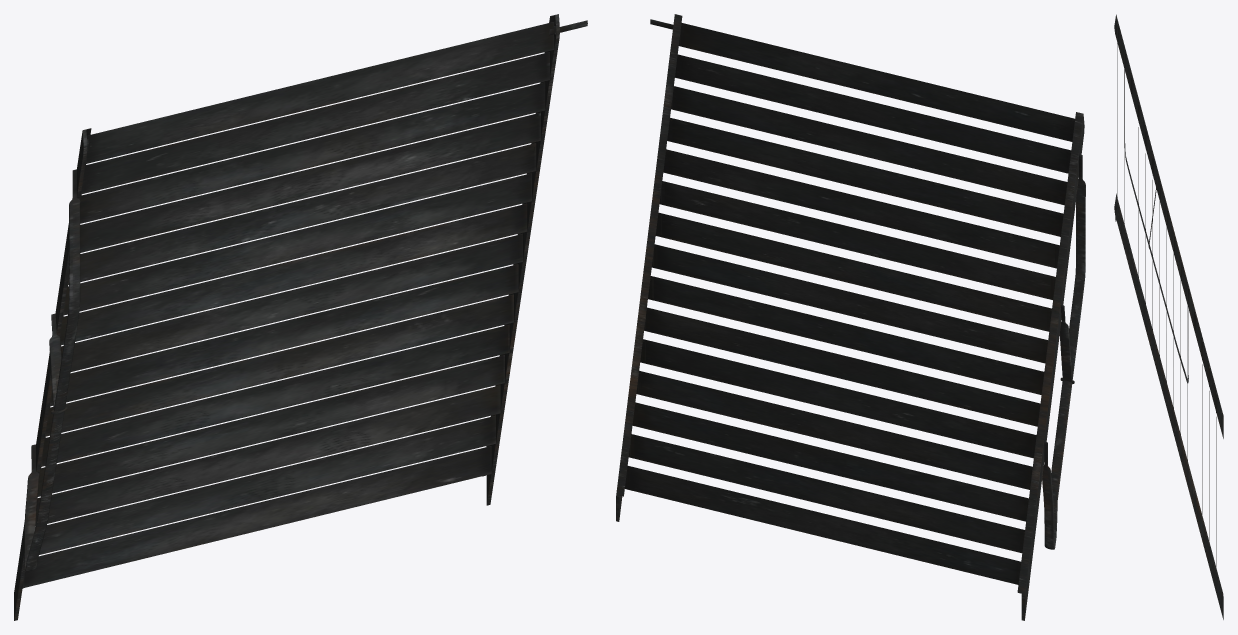
Rendered from steel_stairs.obj.
3 views of the same model, side by side, from view 1: azimuth 30°, elevation 25°; view 2: azimuth 150°, elevation 25°; view 3: azimuth 270°, elevation 25° (orthographic). The views are drawn at different scales.
Visible parts, largest first — view 1: modular_fire_escape_stairs; view 2: modular_fire_escape_stairs; view 3: modular_fire_escape_stairs.
Boxes of the visible parts, x1,y1,x2,y2 form: modular_fire_escape_stairs: [14, 14, 587, 620]; modular_fire_escape_stairs: [616, 14, 1085, 620]; modular_fire_escape_stairs: [1114, 14, 1223, 619].
Size of the model in its own units: 6 by 6 by 1.4.
Materials: 1 (1 with a texture image).
